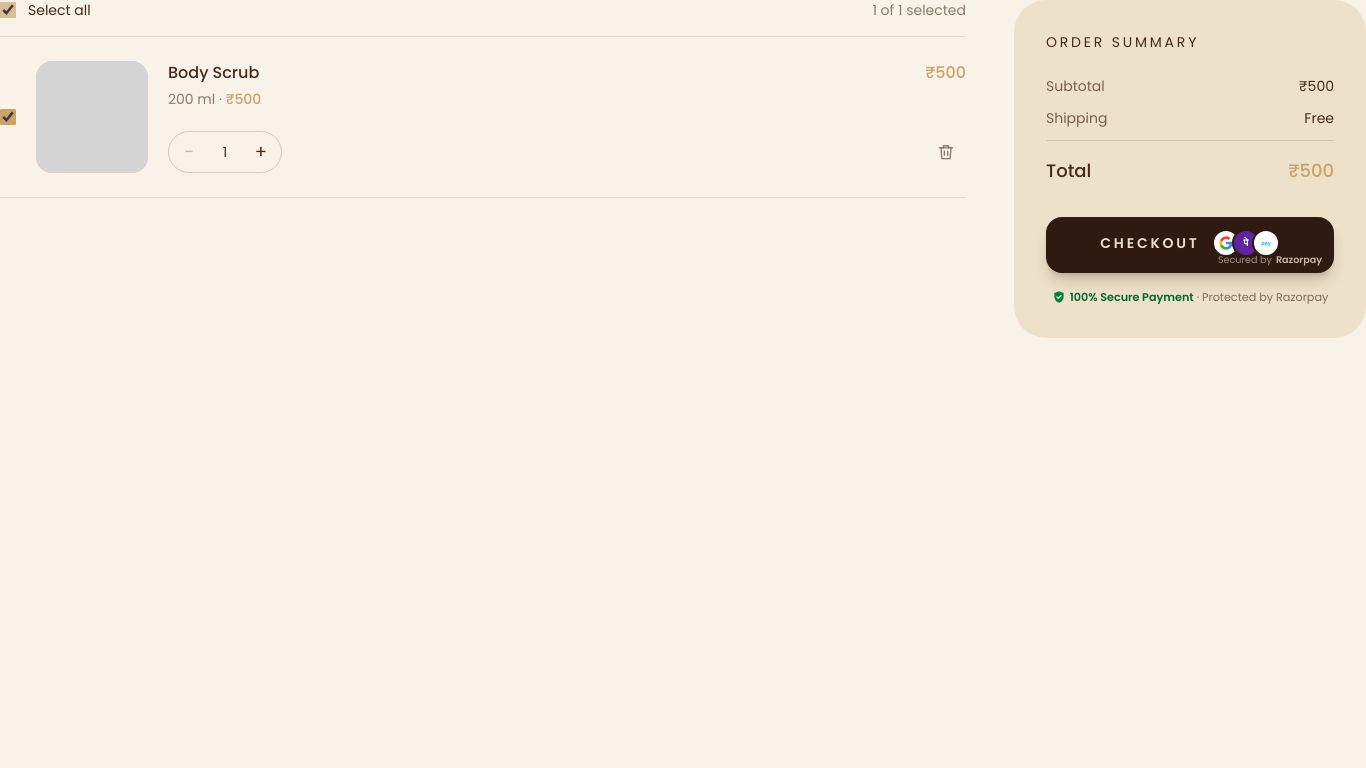
Test: CartView › Move to Wishlist takes it out of the cart and saves it
Click the button named "Remove Body Scrub".
click(946, 152)  # box [926,132,966,172]
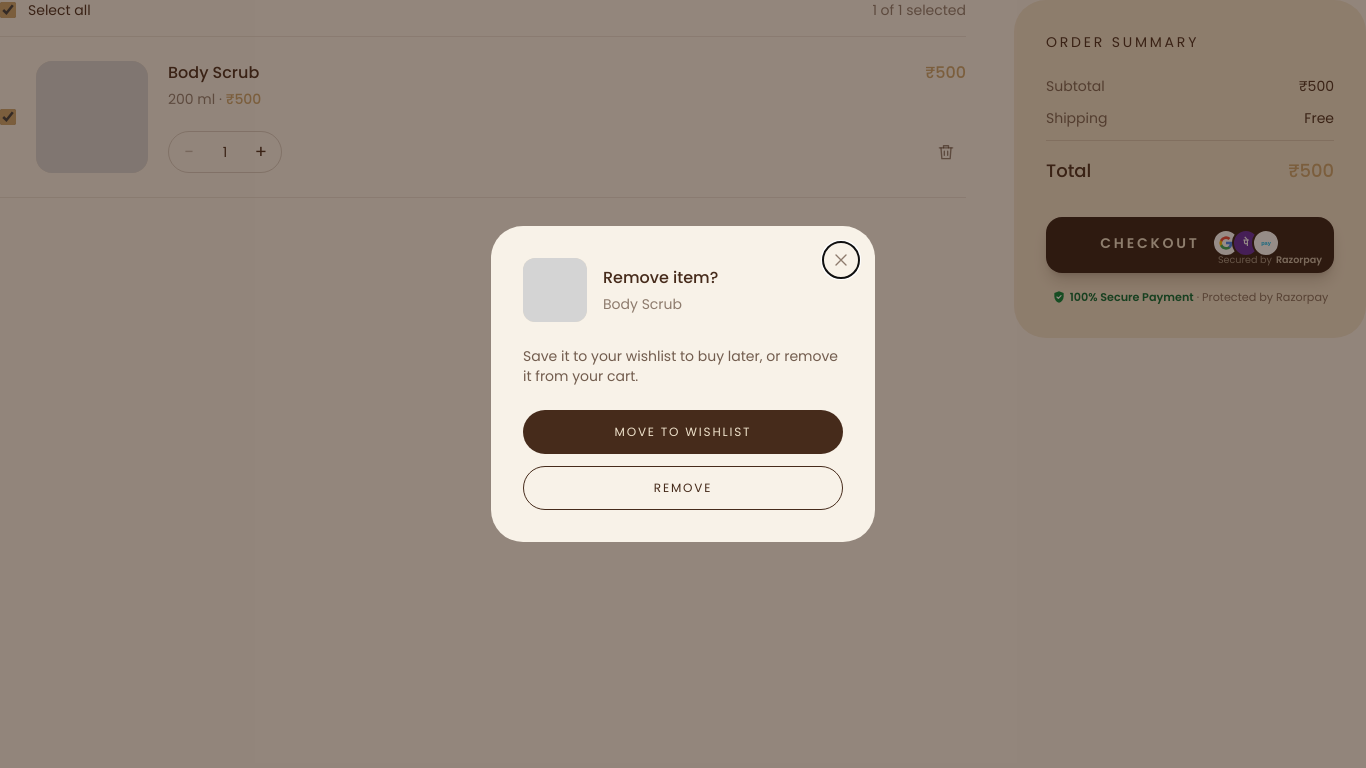
Click the button "Move to Wishlist".
click(683, 432)  # box [523,410,843,454]
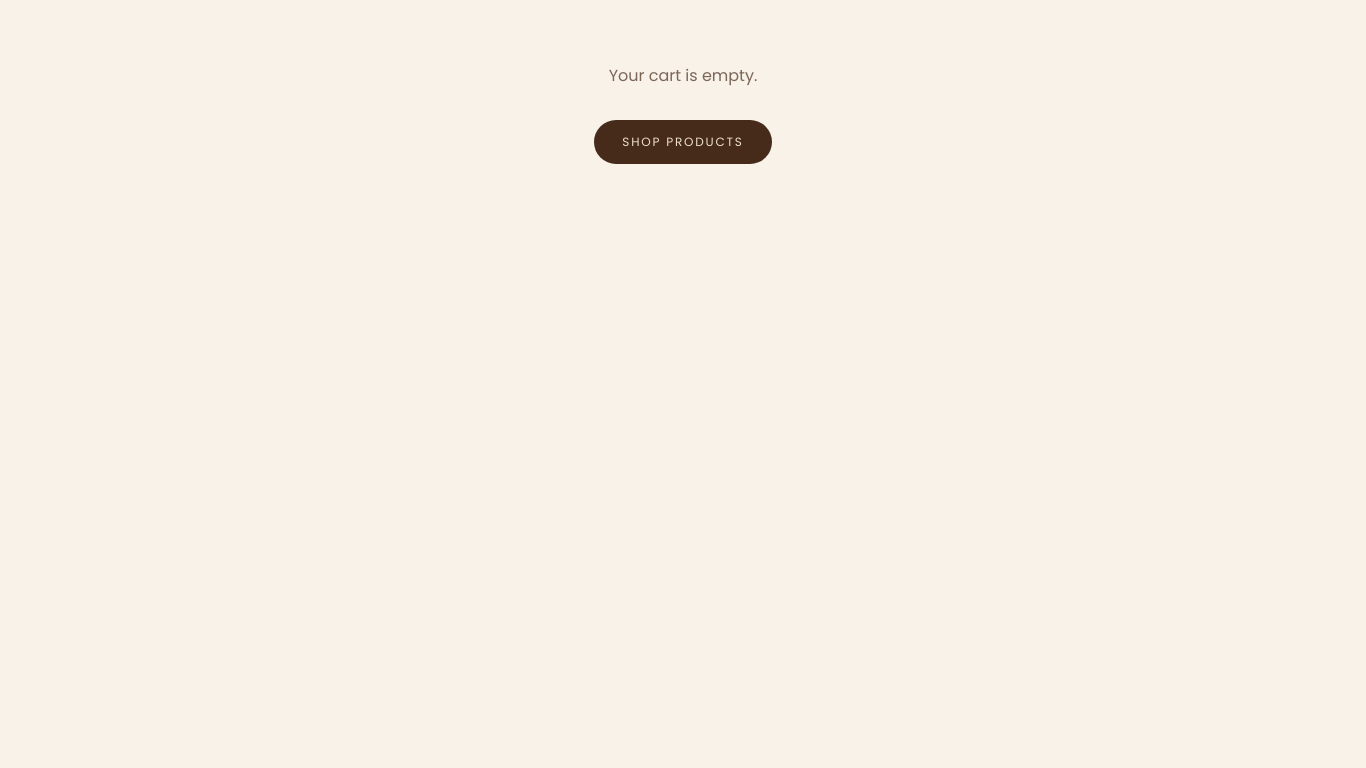
Now the text "Your cart is empty." is shown, box [609,64,757,87]
